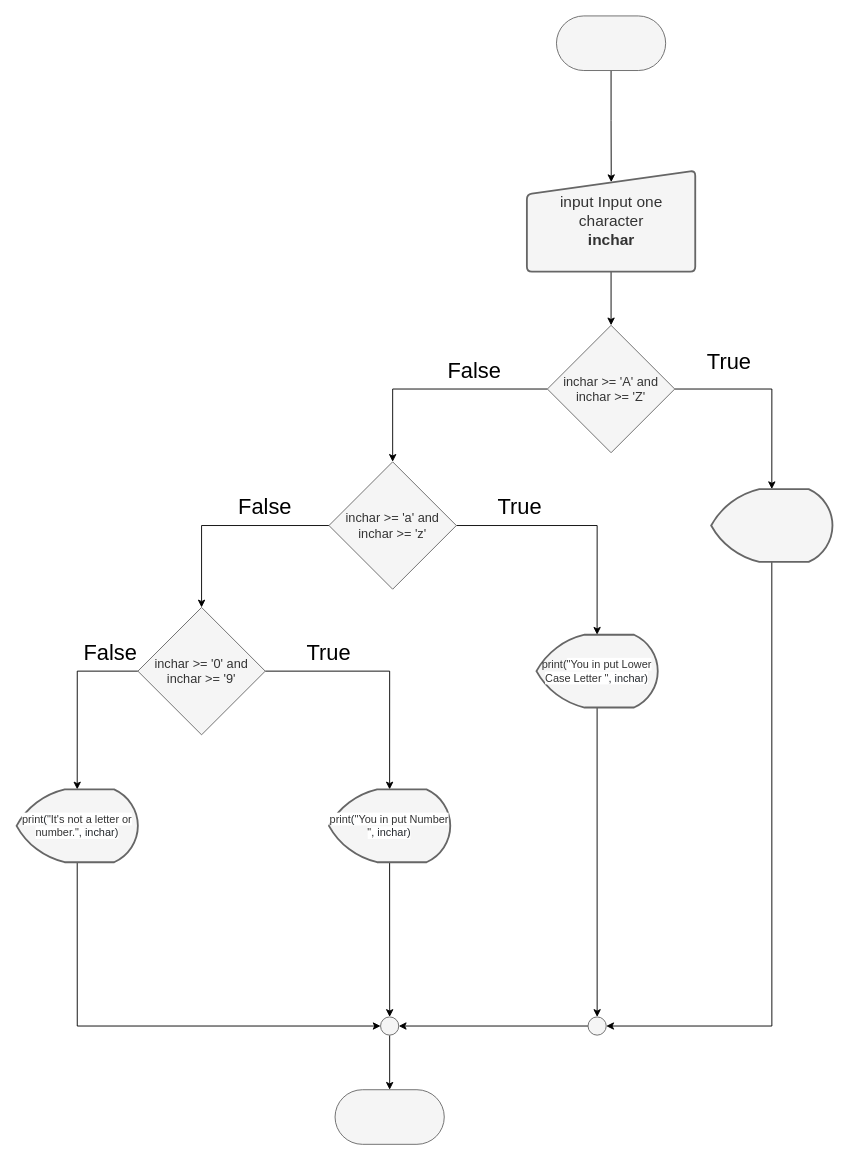
Image size: 849x1160. Some labels were removed from this diagram. The centre of each missing label's shape, as x and y in pixels:
End: point (389, 1116)
print( "You in put Upper Case Letter " , inchar): point (771, 525)
Start: point (611, 43)
